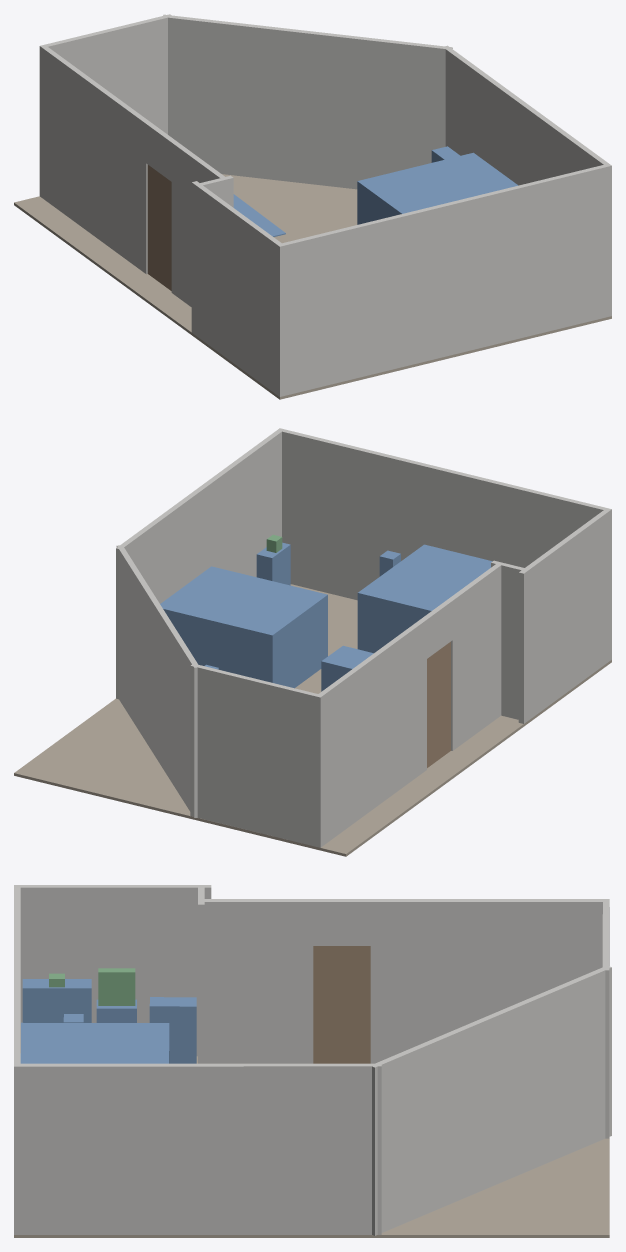
Rendered from room_079.glb.
The picture shows the model from 3 angles, top to bottom: view 1: azimuth 30°, elevation 25°; view 2: azimuth 150°, elevation 25°; view 3: azimuth 270°, elevation 25°; orthographic projection. The views are drawn at different scales.
Parts seen in each view (by area): view 1: shell_wall_6_s0, shell_wall_1_s0, shell_wall_3_s0, shell_wall_5_s0, shell_floor, shell_wall_0_s0, shell_wall_2_s0, obj_013, shell_wall_3_s2, shell_wall_3_door, shell_wall_3_s1, shell_wall_4_s0 (+1 smaller); view 2: shell_wall_6_s0, shell_wall_2_s0, shell_floor, shell_wall_3_s0, shell_wall_5_s0, shell_wall_0_s0, obj_013, shell_wall_1_s0, shell_wall_3_s2, obj_001, shell_wall_4_s0, shell_wall_3_door (+3 smaller); view 3: shell_wall_0_s0, shell_wall_1_s0, shell_wall_3_s0, shell_wall_5_s0, shell_wall_3_s2, shell_floor, shell_wall_3_door, obj_001, obj_000, shell_wall_3_s1, obj_006, obj_011 (+4 smaller).
Boxes of the visible parts, left/top/right/bottom form: shell_wall_6_s0: left=277, top=164, right=611, bottom=396; shell_wall_1_s0: left=162, top=14, right=452, bottom=189; shell_wall_3_s0: left=39, top=46, right=150, bottom=274; shell_wall_5_s0: left=191, top=181, right=284, bottom=396; shell_floor: left=14, top=174, right=611, bottom=399; shell_wall_0_s0: left=443, top=45, right=611, bottom=185; shell_wall_2_s0: left=40, top=14, right=171, bottom=134; obj_013: left=357, top=152, right=518, bottom=224; shell_wall_3_s2: left=171, top=141, right=228, bottom=306; shell_wall_3_door: left=147, top=164, right=171, bottom=290; shell_wall_3_s1: left=146, top=122, right=176, bottom=181; shell_wall_4_s0: left=194, top=175, right=233, bottom=336; shell_wall_6_s0: left=280, top=428, right=611, bottom=659; shell_wall_2_s0: left=190, top=664, right=322, bottom=847; shell_floor: left=14, top=584, right=611, bottom=856; shell_wall_3_s0: left=318, top=618, right=426, bottom=847; shell_wall_5_s0: left=518, top=508, right=611, bottom=723; shell_wall_0_s0: left=116, top=428, right=284, bottom=699; obj_013: left=160, top=566, right=327, bottom=688; shell_wall_1_s0: left=116, top=545, right=199, bottom=817; shell_wall_3_s2: left=448, top=562, right=502, bottom=750; obj_001: left=357, top=544, right=492, bottom=653; shell_wall_4_s0: left=491, top=560, right=524, bottom=719; shell_wall_3_door: left=427, top=641, right=450, bottom=767; shell_wall_0_s0: left=14, top=1063, right=381, bottom=1234; shell_wall_1_s0: left=370, top=966, right=611, bottom=1235; shell_wall_3_s0: left=370, top=899, right=609, bottom=1063; shell_wall_5_s0: left=14, top=885, right=211, bottom=1056; shell_wall_3_s2: left=198, top=899, right=313, bottom=1063; shell_floor: left=14, top=1056, right=609, bottom=1237; shell_wall_3_door: left=313, top=946, right=370, bottom=1063; obj_001: left=20, top=1022, right=169, bottom=1063; obj_000: left=22, top=979, right=91, bottom=1022; shell_wall_3_s1: left=313, top=899, right=370, bottom=945; obj_006: left=149, top=997, right=196, bottom=1063; obj_011: left=98, top=968, right=135, bottom=1005.
Bounding box in the file's own units: 6.51 × 2.85 × 9.01.
